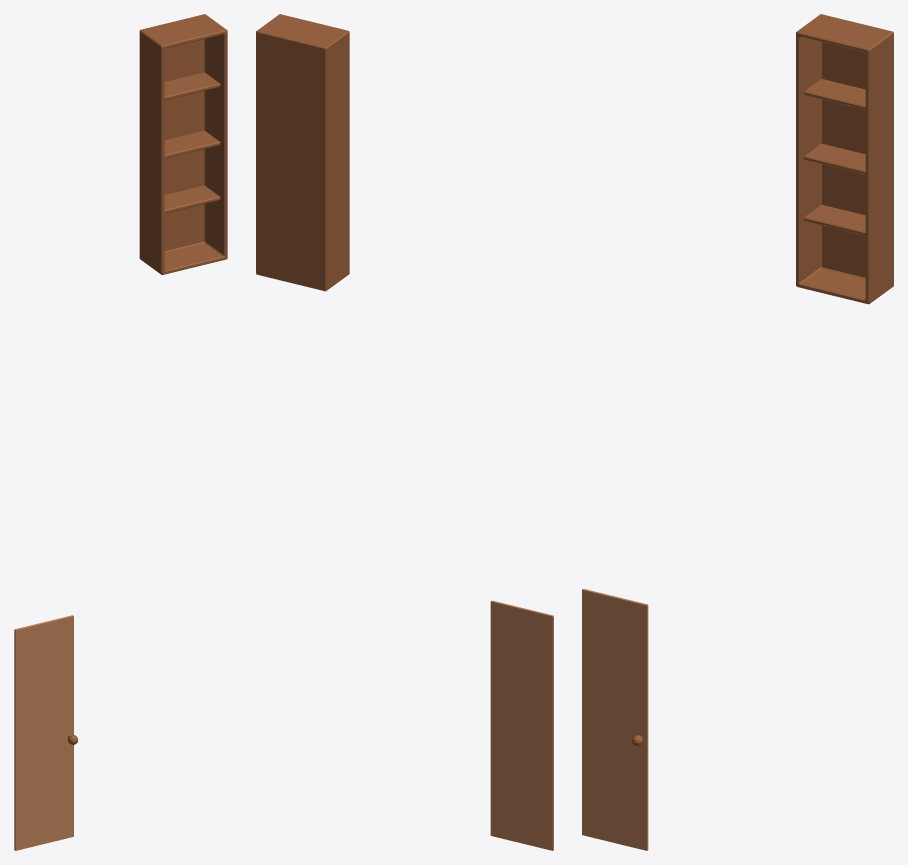
Rendered from Shelf A.glb.
3 renders of one model, left to right at view 1: azimuth 30°, elevation 25°; view 2: azimuth 150°, elevation 25°; view 3: azimuth 330°, elevation 25°, orthographic. The views are drawn at different scales.
Visible parts, largest first — view 1: Shelf A .001, Shelf A .002; view 2: Shelf A .001, Shelf A .002; view 3: Shelf A .001, Shelf A .002.
Boxes of the visible parts, x1,y1,x2,y2 form: Shelf A .001: (139,14,227,274); Shelf A .002: (14,615,78,850); Shelf A .001: (256,14,349,291); Shelf A .002: (490,600,553,850); Shelf A .001: (796,14,893,304); Shelf A .002: (582,589,648,850).
Size of the model in its own units: 2.31 by 7 by 0.8816.
